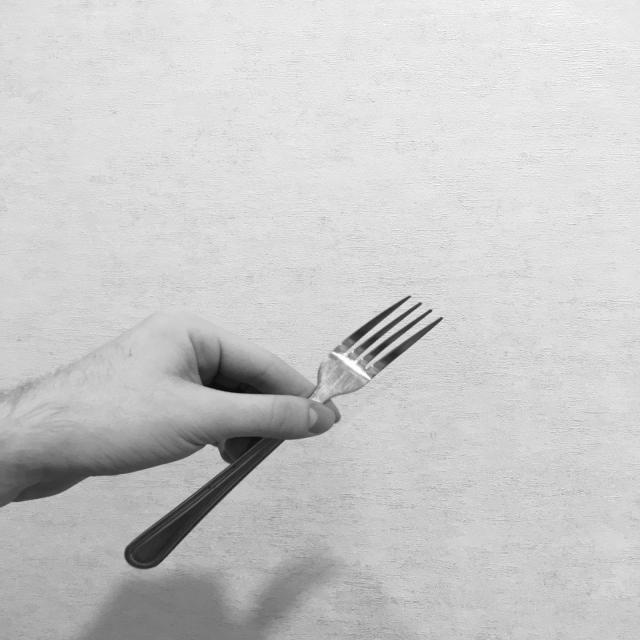fork: (122, 293, 446, 570)
